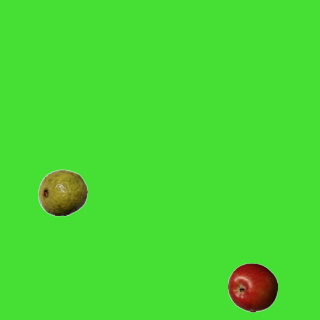Apple Braeburn: (227, 262, 277, 312)
Guava: (37, 167, 87, 217)
